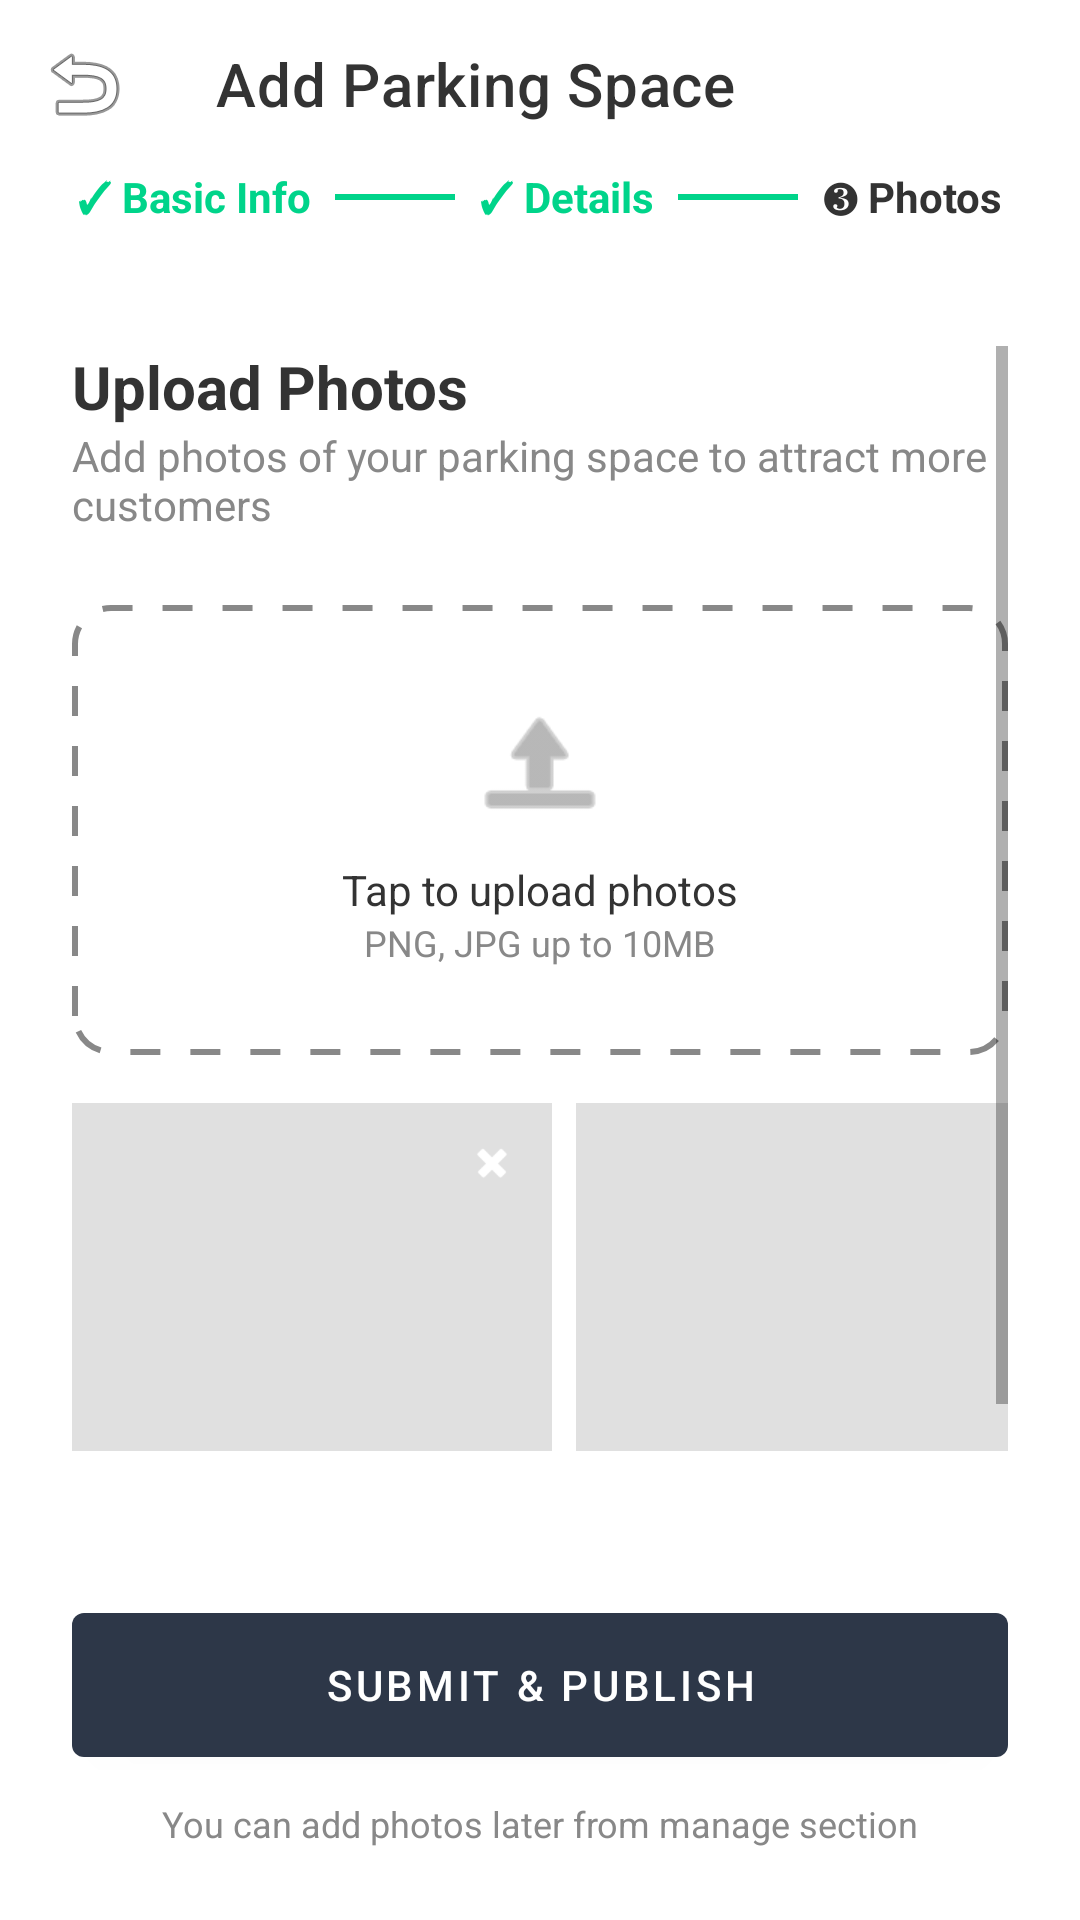

Screen size 1080x1920. Icon name, then its center in pixels as point (x, y):
delete: point (492, 1163)
